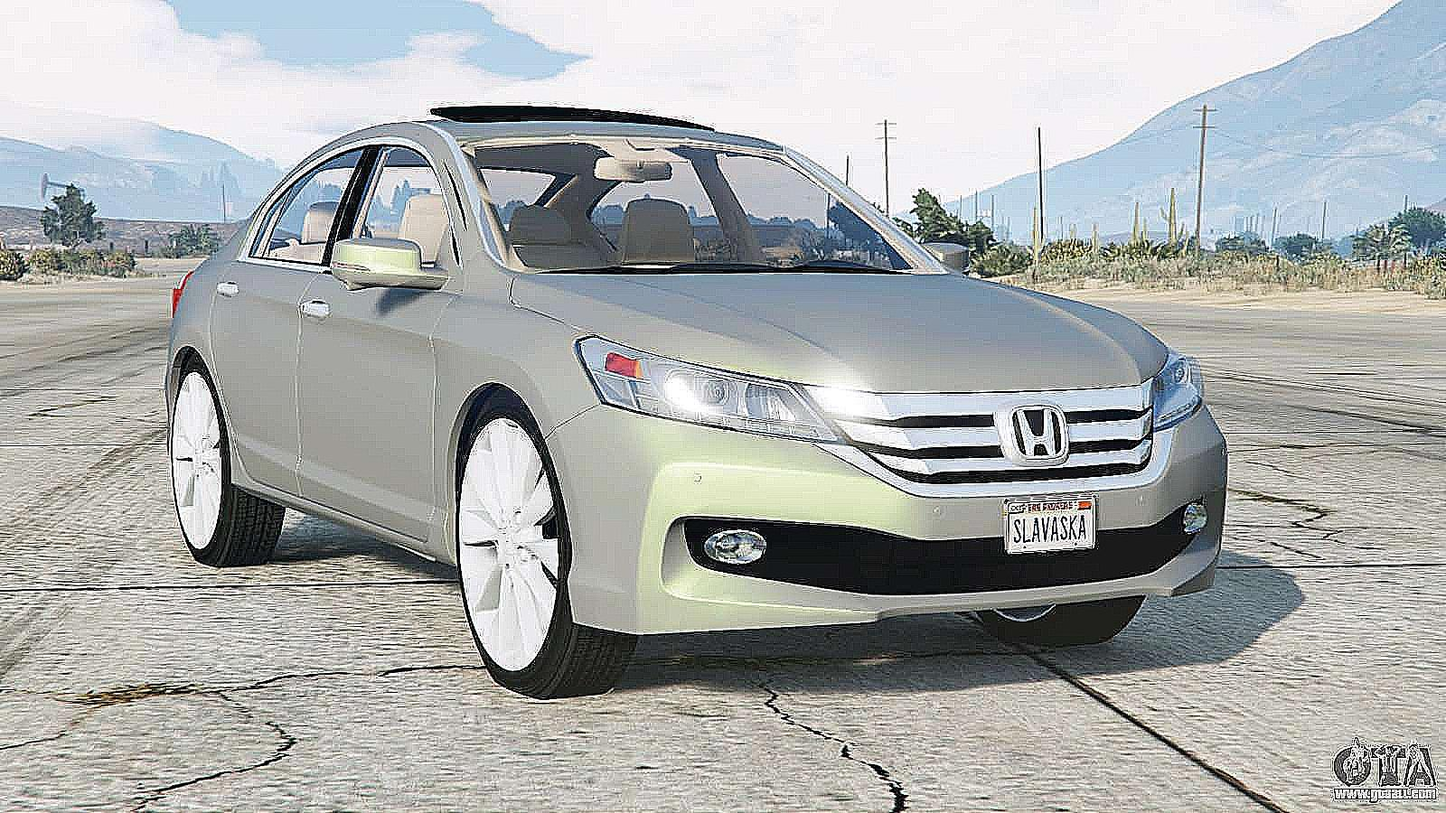Car hood: (504, 258, 1176, 395)
Driver-s door - -F-R-: (296, 120, 436, 534)
Fender - -F-R-: (434, 242, 607, 567)
Fender - -R-R-: (180, 284, 242, 493)
Front bumper: (552, 427, 1256, 649)
Headlight - -L-: (1134, 337, 1227, 442)
Headlight - -R-: (561, 325, 864, 450)
Passenger-s door - -R-R-: (206, 120, 342, 510)
Rear light - -R-: (147, 255, 196, 306)
Side bumper - -R-: (213, 443, 457, 569)
Side mirror - -L-: (897, 228, 993, 298)
Side mirror - -R-: (314, 222, 455, 306)
